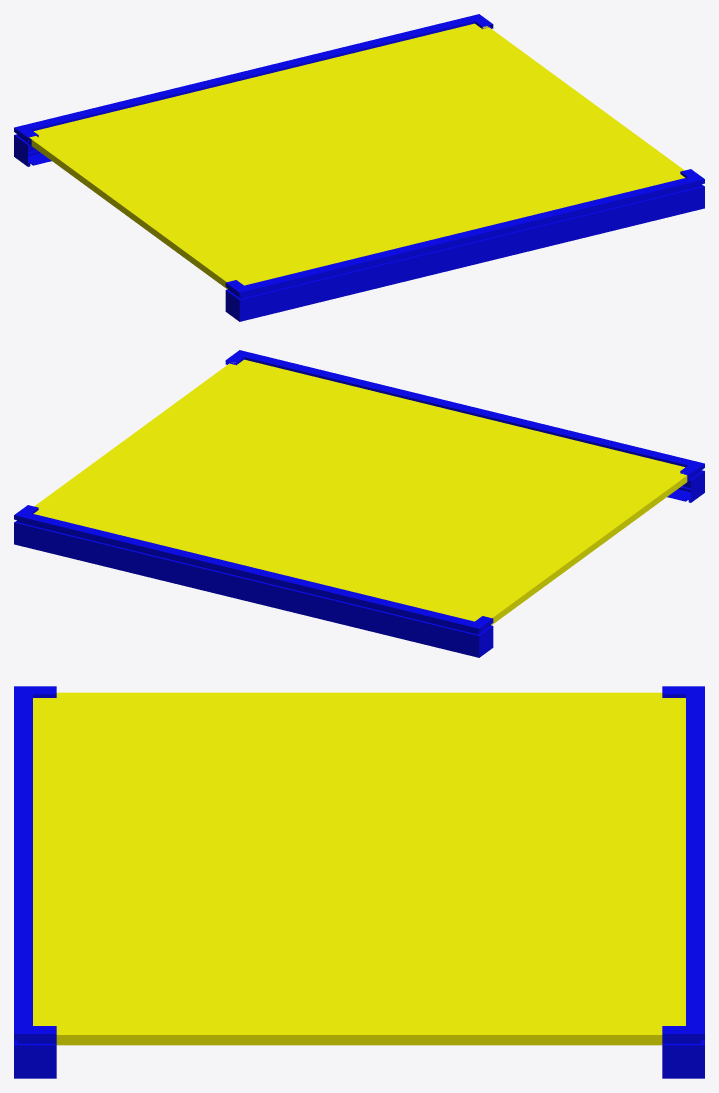
Rendered from test-parent-child4.glb.
The picture shows the model from 3 angles, top to bottom: view 1: azimuth 30°, elevation 25°; view 2: azimuth 150°, elevation 25°; view 3: azimuth 270°, elevation 25°; orthographic projection. The views are drawn at different scales.
Parts seen in each view (by area): view 1: variable, fixed2, fixed1; view 2: variable, fixed1, fixed2; view 3: variable, fixed1, fixed2.
Boxes of the visible parts, x1=… form: variable: x1=29, y1=23, x2=685, y2=289; fixed2: x1=225, y1=169, x2=704, y2=321; fixed1: x1=14, y1=14, x2=493, y2=166; variable: x1=33, y1=359, x2=687, y2=625; fixed1: x1=14, y1=505, x2=493, y2=657; fixed2: x1=225, y1=350, x2=704, y2=502; variable: x1=33, y1=692, x2=685, y2=1045; fixed1: x1=662, y1=686, x2=704, y2=1078; fixed2: x1=14, y1=686, x2=56, y2=1078.
Size of the model in its own units: 0.5 by 0.03 by 0.42.
